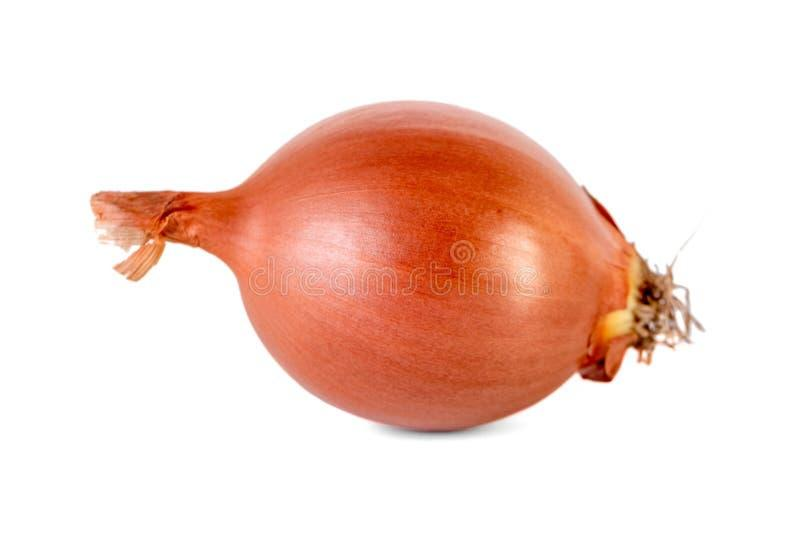Onion: (91, 102, 694, 430)
